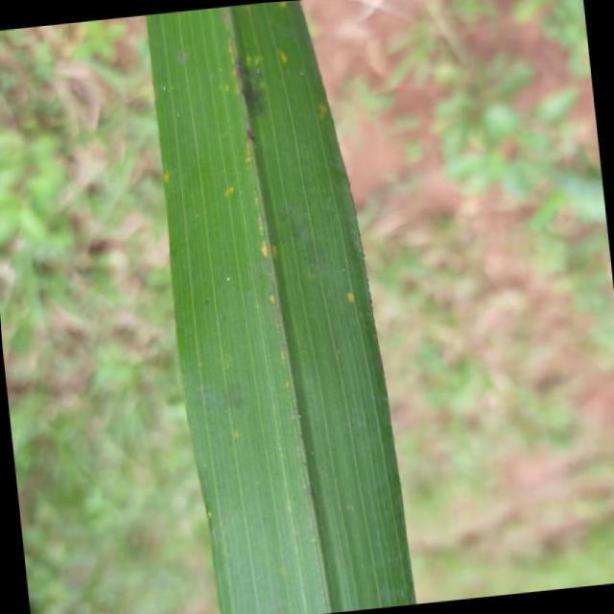Kalium: (144, 0, 417, 614)
